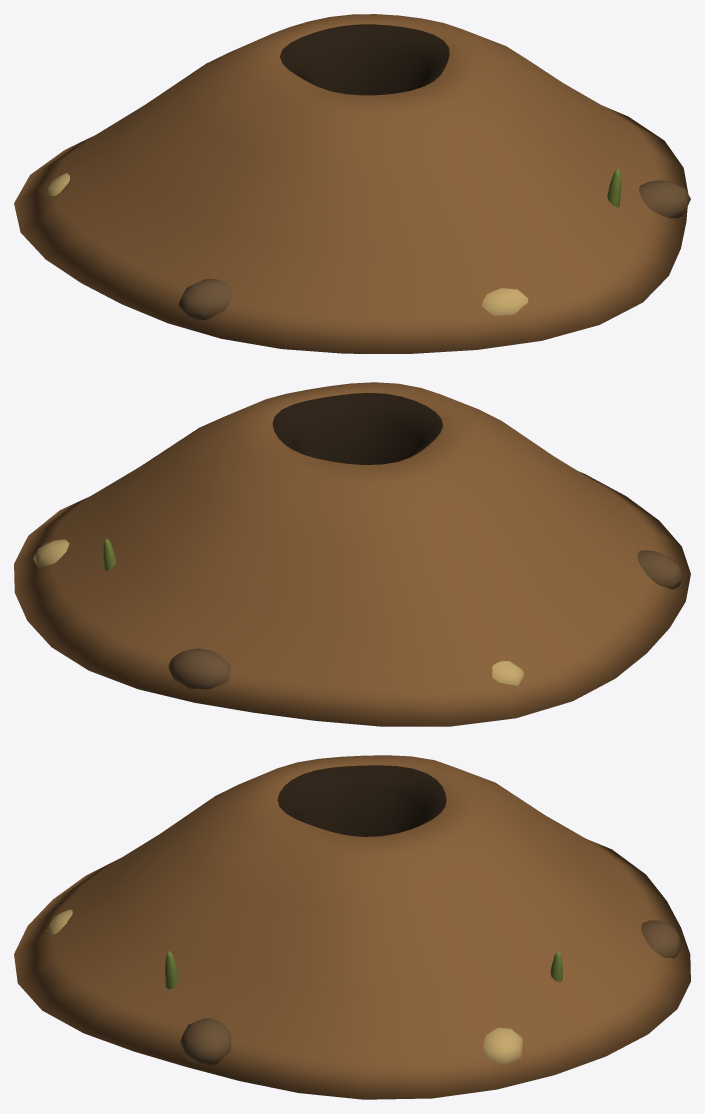
The model's file is lvl01_environment_anthill_crater_v01.glb.
3 views of the same model, one above another, from view 1: azimuth 30°, elevation 25°; view 2: azimuth 150°, elevation 25°; view 3: azimuth 270°, elevation 25° (orthographic).
Visible parts, largest first — view 1: soil_mound, soil_pebble_03, soil_pebble_05, soil_pebble_04; view 2: soil_mound, soil_pebble_01, soil_pebble_03, soil_pebble_00, soil_pebble_02; view 3: soil_mound, soil_pebble_05, soil_pebble_00, soil_pebble_01.
Part boxes in pixels (x1=…): soil_mound: x1=14, y1=14, x2=688, y2=353; soil_pebble_03: x1=178, y1=278, x2=232, y2=319; soil_pebble_05: x1=639, y1=180, x2=690, y2=218; soil_pebble_04: x1=482, y1=288, x2=528, y2=315; soil_mound: x1=14, y1=382, x2=690, y2=726; soil_pebble_01: x1=168, y1=648, x2=230, y2=689; soil_pebble_03: x1=637, y1=550, x2=683, y2=589; soil_pebble_00: x1=33, y1=539, x2=69, y2=567; soil_pebble_02: x1=492, y1=661, x2=524, y2=685; soil_mound: x1=14, y1=755, x2=690, y2=1099; soil_pebble_05: x1=180, y1=1018, x2=231, y2=1065; soil_pebble_00: x1=483, y1=1028, x2=522, y2=1064; soil_pebble_01: x1=641, y1=920, x2=681, y2=958.
Bounding box in the file's own units: 2.41 × 0.62 × 2.4.
1 material, 1 textured.
